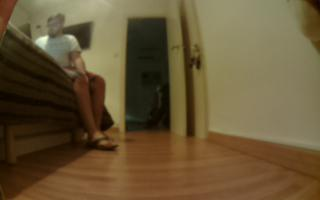person: (33, 11, 125, 159)
